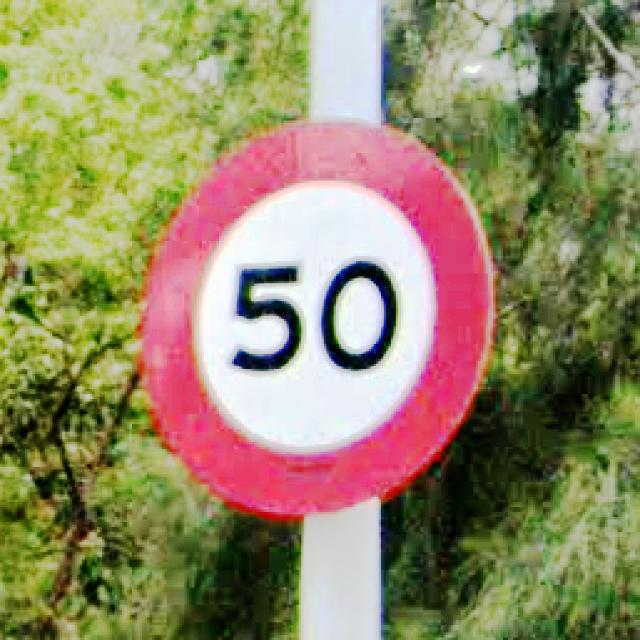max50: (134, 113, 496, 517)
